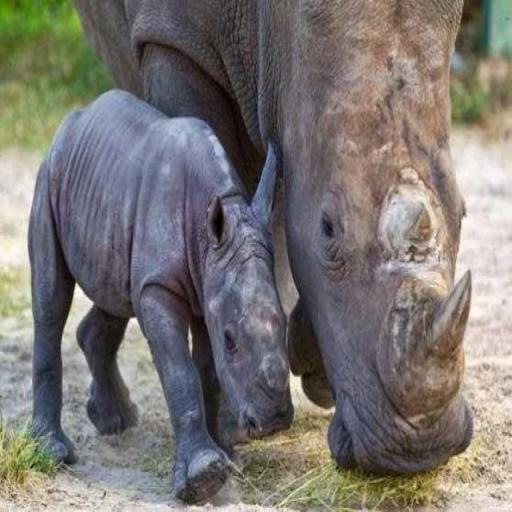Rhino: (70, 0, 474, 476), (26, 85, 294, 504)
